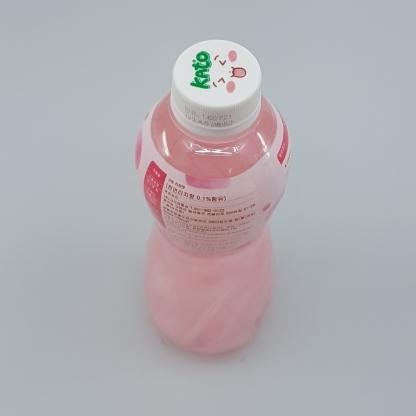-----------: (134, 39, 292, 355)
